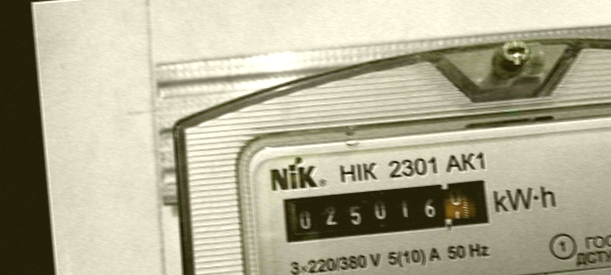0: (374, 199, 390, 223), (299, 210, 314, 233), (450, 188, 463, 209)
1: (399, 196, 412, 222), (454, 211, 463, 222)
2: (325, 205, 340, 229)
5: (350, 206, 363, 228)
6: (423, 197, 439, 223)
screen: (274, 172, 501, 252)
